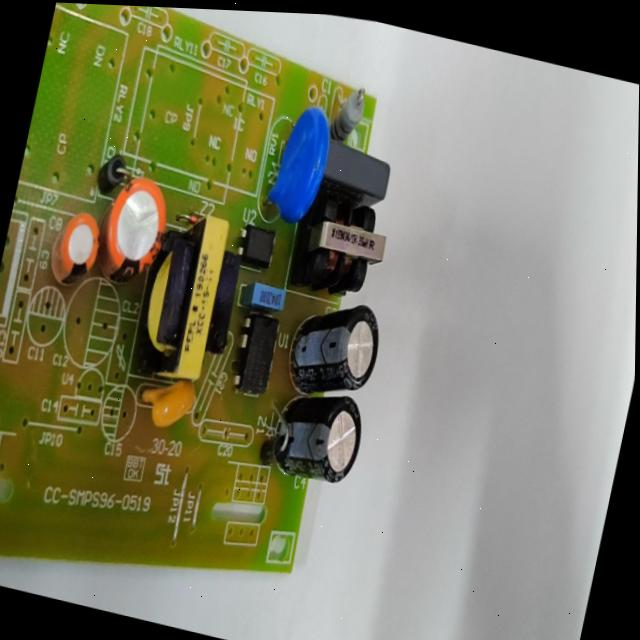Cap1: (85, 160, 180, 307)
Cap2: (40, 196, 111, 301)
Cap3: (279, 281, 395, 413)
Cap4: (259, 376, 374, 513)
MOSFET: (224, 301, 289, 407)
Mov: (255, 91, 342, 241)
Resistor: (329, 83, 371, 148)
Transformer: (120, 190, 259, 413), (298, 182, 400, 310)
